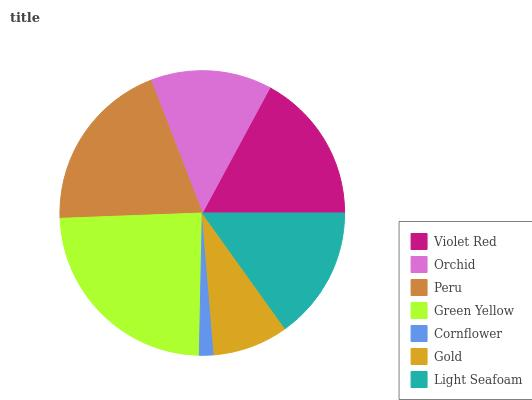legend: (400, 221, 532, 400)
sector: (58, 212, 204, 356), (58, 80, 202, 217), (202, 87, 345, 213), (153, 69, 273, 213), (203, 213, 346, 329), (201, 212, 283, 355), (201, 213, 212, 356)
